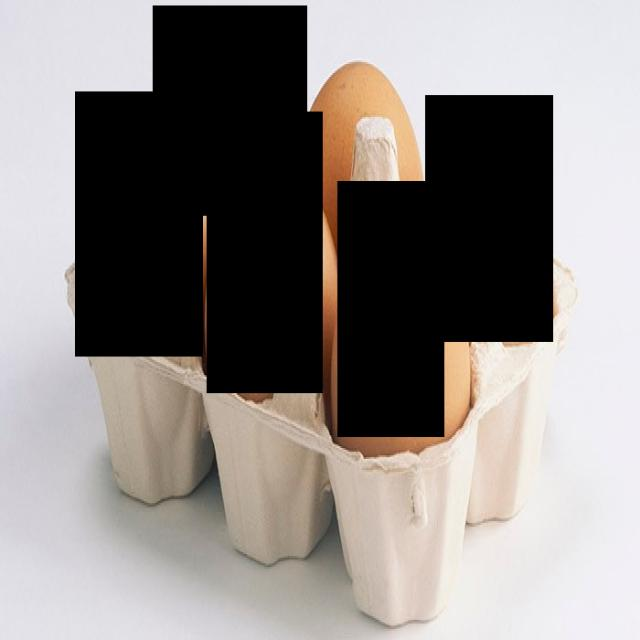Egg: (75, 91, 203, 356), (207, 112, 324, 394), (153, 7, 307, 217), (426, 95, 554, 342), (337, 181, 445, 437)
